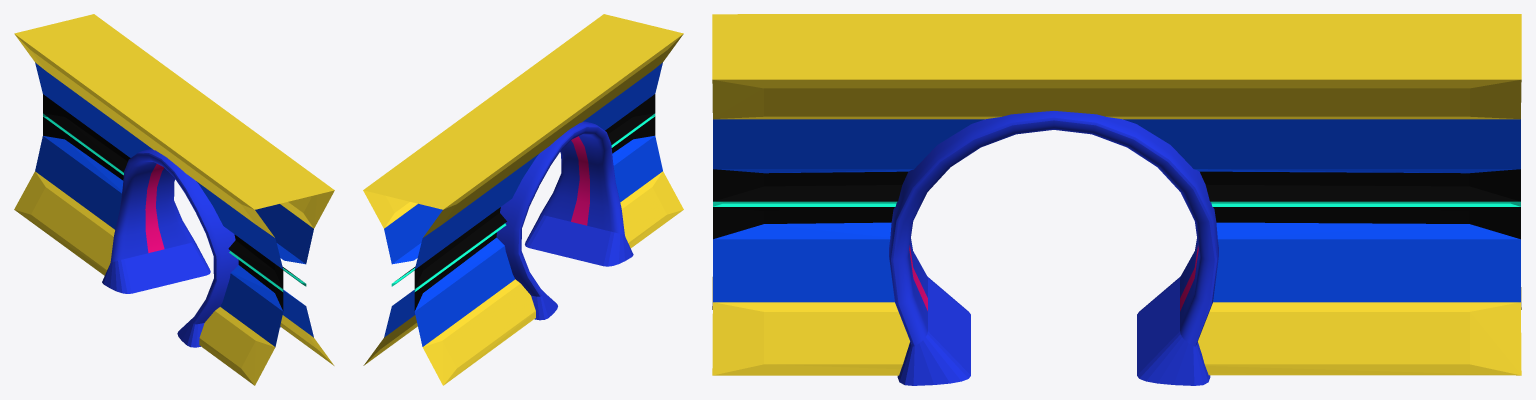
The model's file is LL Outer Offset walkway.FBX.
3 views of the same model, side by side, from view 1: azimuth 30°, elevation 25°; view 2: azimuth 150°, elevation 25°; view 3: azimuth 270°, elevation 25° (orthographic). The views are drawn at different scales.
Visible parts, largest first — view 1: Object151, Tube026; view 2: Object151, Tube026; view 3: Object151, Tube026.
Boxes of the visible parts, x1=… form: Object151: x1=14, y1=14, x2=334, y2=385; Tube026: x1=102, y1=149, x2=280, y2=347; Object151: x1=363, y1=14, x2=683, y2=385; Tube026: x1=496, y1=121, x2=633, y2=320; Object151: x1=712, y1=14, x2=1521, y2=375; Tube026: x1=889, y1=111, x2=1218, y2=385.
Bounding box in the file's own units: 3.8 × 6.61 × 16.23.
